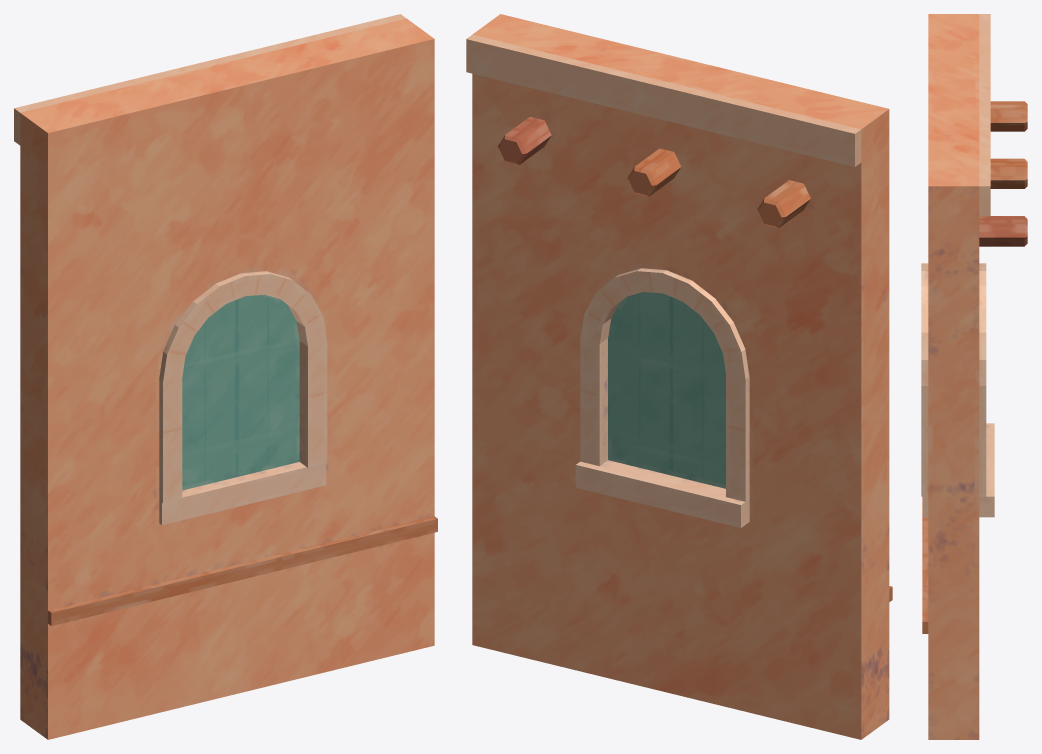
The model's file is wall2_upper_shutter_low.fbx.
3 renders of one model, left to right at view 1: azimuth 30°, elevation 25°; view 2: azimuth 150°, elevation 25°; view 3: azimuth 270°, elevation 25°, orthographic. The views are drawn at different scales.
Visible parts, largest first — view 1: wall2_upper_shutter; view 2: wall2_upper_shutter; view 3: wall2_upper_shutter.
Boxes of the visible parts, box(x1,y1,x2,y2) form: wall2_upper_shutter: box(14, 14, 437, 739); wall2_upper_shutter: box(466, 14, 892, 739); wall2_upper_shutter: box(921, 14, 1027, 739).
Bounding box in the file's own units: 8 × 12 × 2.09.
1 material, 1 textured.
